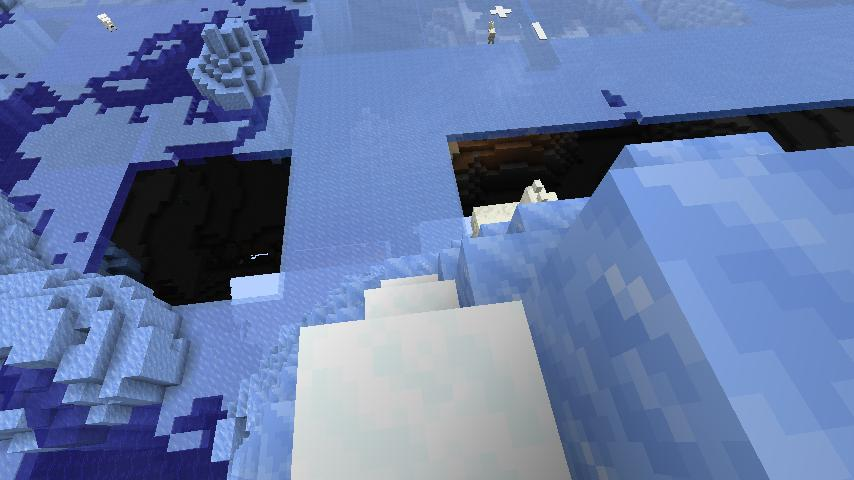llama: (467, 178, 561, 236), (486, 19, 498, 45)
